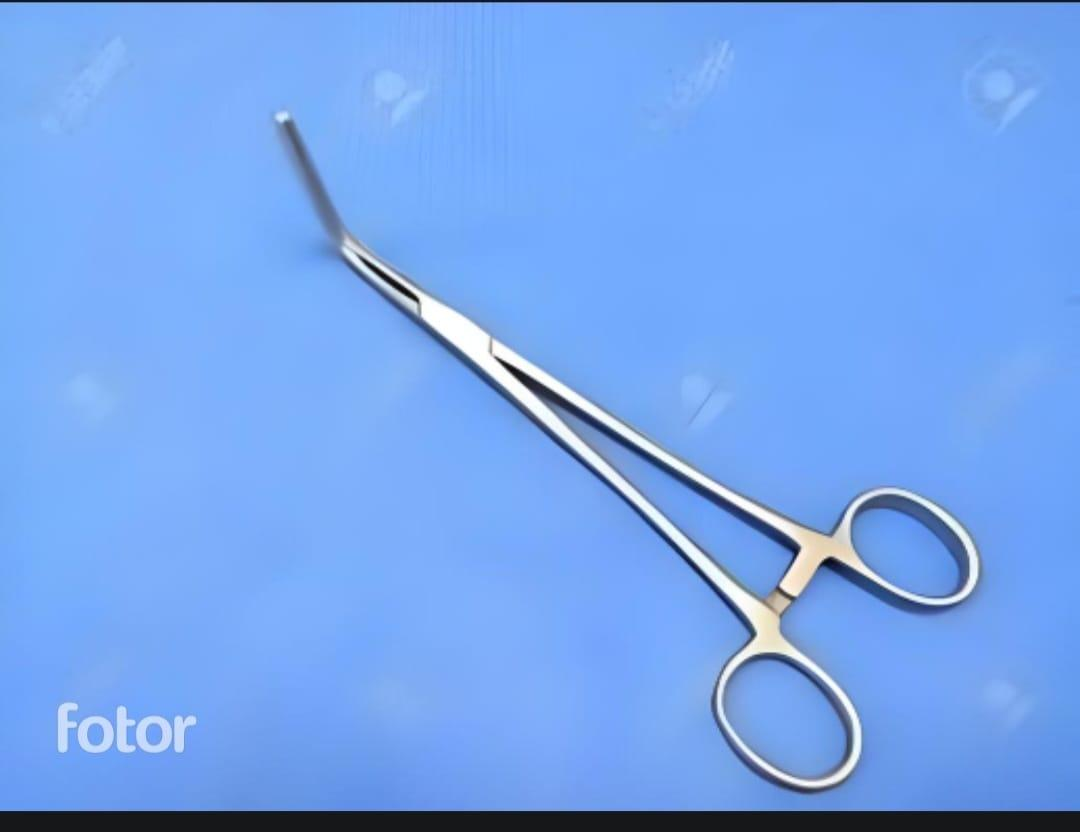Rectangle Cholecystectomy Forceps: (261, 99, 994, 805)
